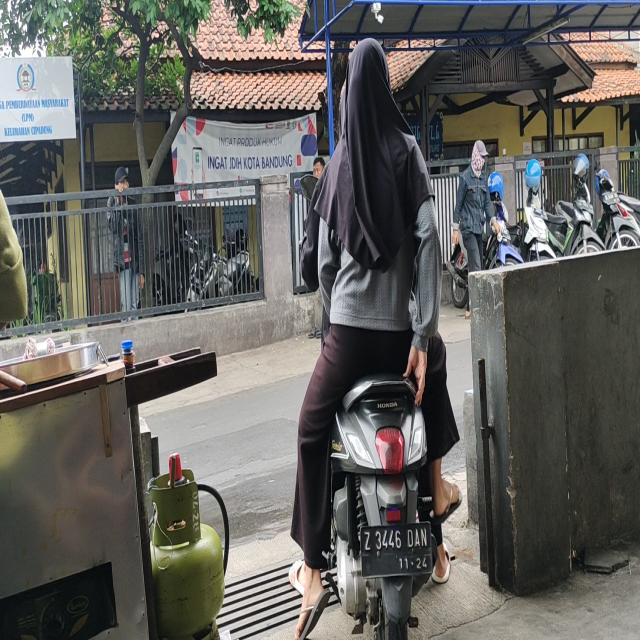no-helmet: (346, 39, 392, 132)
